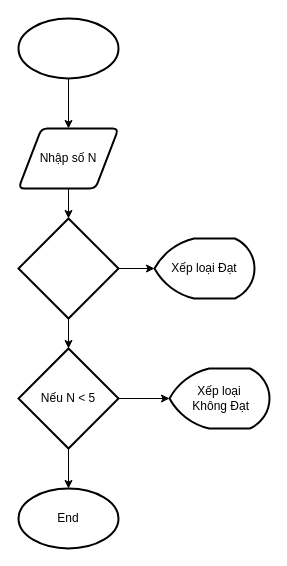
Image size: 287x566. Some labels were removed from this diagram. Each missing label, with the centre of its shape:
Nếu N > 5: the point at 68,268
start: the point at 68,48
